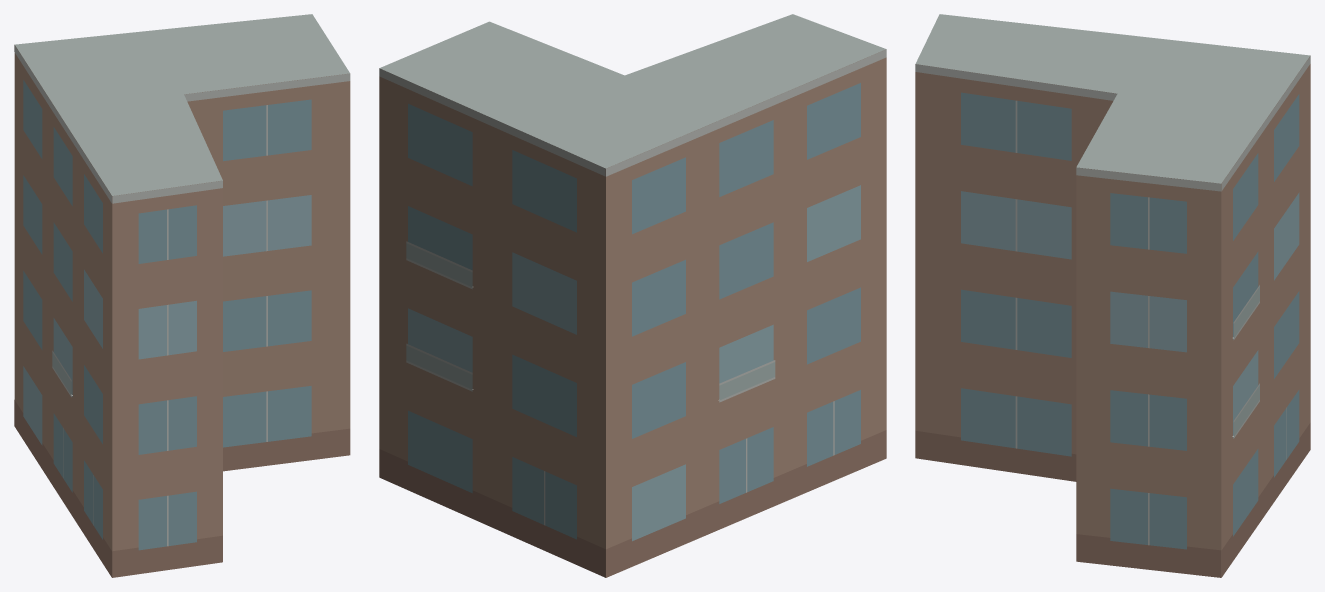
Rendered from survey-upis-32582647.glb.
3 views of the same model, side by side, from view 1: azimuth 30°, elevation 25°; view 2: azimuth 150°, elevation 25°; view 3: azimuth 270°, elevation 25° (orthographic). The views are drawn at different scales.
Visible parts, largest first — view 1: survey-upis-32582647.tmp; view 2: survey-upis-32582647.tmp; view 3: survey-upis-32582647.tmp.
Part boxes in pixels (left/top/right/bottom): survey-upis-32582647.tmp: left=14, top=14, right=350, bottom=577; survey-upis-32582647.tmp: left=379, top=14, right=886, bottom=577; survey-upis-32582647.tmp: left=915, top=14, right=1310, bottom=577.
Bounding box in the file's own units: 11.27 × 12.2 × 11.09.
